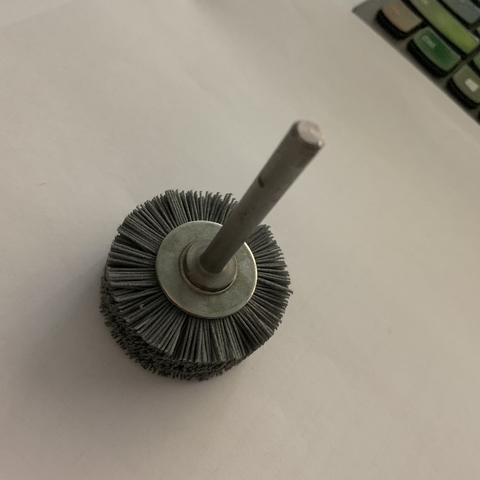Wheel Brush: (56, 87, 316, 398), (101, 113, 321, 413), (96, 115, 284, 390)
